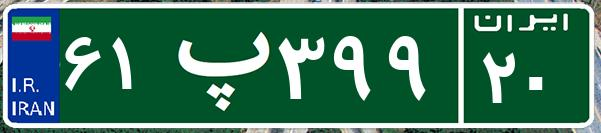0: (525, 38, 570, 115)
1: (110, 28, 158, 105)
2: (475, 38, 525, 113)
3: (273, 28, 330, 110)
6: (57, 26, 110, 107)
9: (385, 28, 445, 110), (330, 28, 385, 110)
پ: (158, 15, 273, 115)
